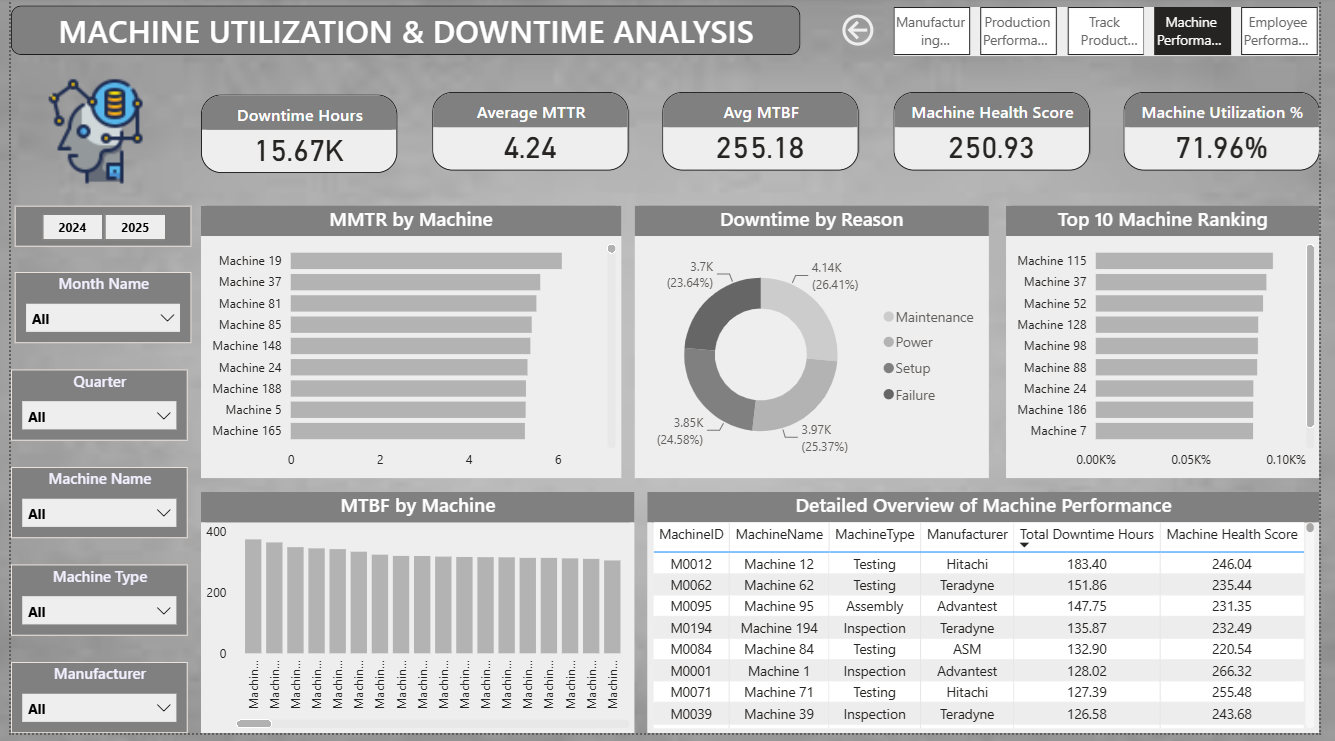

This screenshot's page, from the dashboard's own definition file:
{"tool":"powerbi","page":{"name":"Machine Performance","canvas":[1280,720],"ordinal":3},"visuals":[{"type":"card","title":"Downtime Hours","fields":{"Values":["Measure Table.Total Downtime Hours"]},"box":[185.9,95.4,192,77],"z":0},{"type":"card","title":"Avg MTBF","fields":{"Values":["Measure Table.Average MTBF"]},"box":[637.1,92.9,192,77],"z":1000},{"type":"card","title":"Machine Utilization %","fields":{"Values":["Measure Table.Machine Utilization %"]},"box":[1088,92.9,192,77],"z":2000},{"type":"card","title":"Average MTTR","fields":{"Values":["Measure Table.Average MTTR"]},"box":[411.5,92.9,192,77],"z":3000},{"type":"tableEx","title":"Detailed Overview of Machine Performance","fields":{"Values":["Dim_Machine.MachineID","Dim_Machine.MachineName","Dim_Machine.MachineType","Dim_Machine.Manufacturer","Measure Table.Total Downtime Hours","Measure Table.Machine Health Score"]},"box":[622.4,484.2,657.9,236],"z":4000},{"type":"donutChart","title":"Downtime by Reason","fields":{"Category":["Fact_Downtime.Reason"],"Y":["Measure Table.Total Downtime Hours"]},"box":[610.2,204.2,346.1,266.6],"z":5000},{"type":"clusteredBarChart","title":"MMTR by Machine","fields":{"Category":["Dim_Machine.MachineName"],"Y":["Measure Table.Average MTTR"]},"box":[185.9,204.2,410.9,266.6],"z":6000},{"type":"columnChart","title":"MTBF by Machine","fields":{"Category":["Dim_Machine.MachineName"],"Y":["Measure Table.Average MTBF"]},"box":[185.9,484.2,424.3,236],"z":7000},{"type":"barChart","title":"Top 10 Machine Ranking","fields":{"Category":["Dim_Machine.MachineName"],"Y":["Measure Table.Machine Utilization %"]},"box":[973.4,204.2,306.9,266.6],"z":8000},{"type":"textbox","title":"MACHINE UTILIZATION & DOWNTIME ANALYSIS","box":[0,8.6,771.6,47.7],"z":9000},{"type":"card","title":"Machine Health Score","fields":{"Values":["Measure Table.Machine Health Score"]},"box":[862.7,92.9,192,77],"z":10000},{"type":"slicer","fields":{"Values":["Dim_Date.Year"]},"box":[3.2,203.7,172.4,40.4],"z":11000},{"type":"slicer","title":"Month Name","fields":{"Values":["Dim_Date.Month Short"]},"box":[3.7,269.6,172.4,69.7],"z":12000},{"type":"slicer","title":"Quarter","fields":{"Values":["Dim_Date.Quarter"]},"box":[0,364.8,172.4,69.7],"z":13000},{"type":"slicer","title":"Machine Name","fields":{"Values":["Dim_Machine.MachineName"]},"box":[0,460.1,172.4,69.7],"z":14000},{"type":"slicer","title":"Machine Type","fields":{"Values":["Dim_Machine.MachineType"]},"box":[0,555.3,172.4,69.7],"z":15000},{"type":"slicer","title":"Manufacturer","fields":{"Values":["Dim_Machine.Manufacturer"]},"box":[0,650.3,172.4,69.7],"z":16000},{"type":"image","box":[3.7,77,157.7,108.8],"z":17000},{"type":"actionButton","box":[808.3,12.2,42.8,40.4],"z":18000},{"type":"pageNavigator","box":[863.3,9.8,417,47.7],"z":19000}]}

Visuals, with their boxes in screenshot pixels (x1, y1, x2, y2), scaled from the page's 1280x720 canvas onto the 1335x741 screenshot:
"Downtime Hours" card: 194/98/394/177
"Avg MTBF" card: 664/96/865/175
"Machine Utilization %" card: 1135/96/1334/175
"Average MTTR" card: 429/96/629/175
"Detailed Overview of Machine Performance" tableEx: 649/498/1334/740
"Downtime by Reason" donutChart: 636/210/997/485
"MMTR by Machine" clusteredBarChart: 194/210/622/485
"MTBF by Machine" columnChart: 194/498/636/740
"Top 10 Machine Ranking" barChart: 1015/210/1334/485
"MACHINE UTILIZATION & DOWNTIME ANALYSIS" textbox: 0/9/805/58
"Machine Health Score" card: 900/96/1100/175
slicer - Dim_Date.Year: 3/210/183/251
"Month Name" slicer: 4/277/184/349
"Quarter" slicer: 0/375/180/447
"Machine Name" slicer: 0/474/180/545
"Machine Type" slicer: 0/571/180/643
"Manufacturer" slicer: 0/669/180/740
image: 4/79/168/191
actionButton: 843/13/888/54
pageNavigator: 900/10/1334/59
